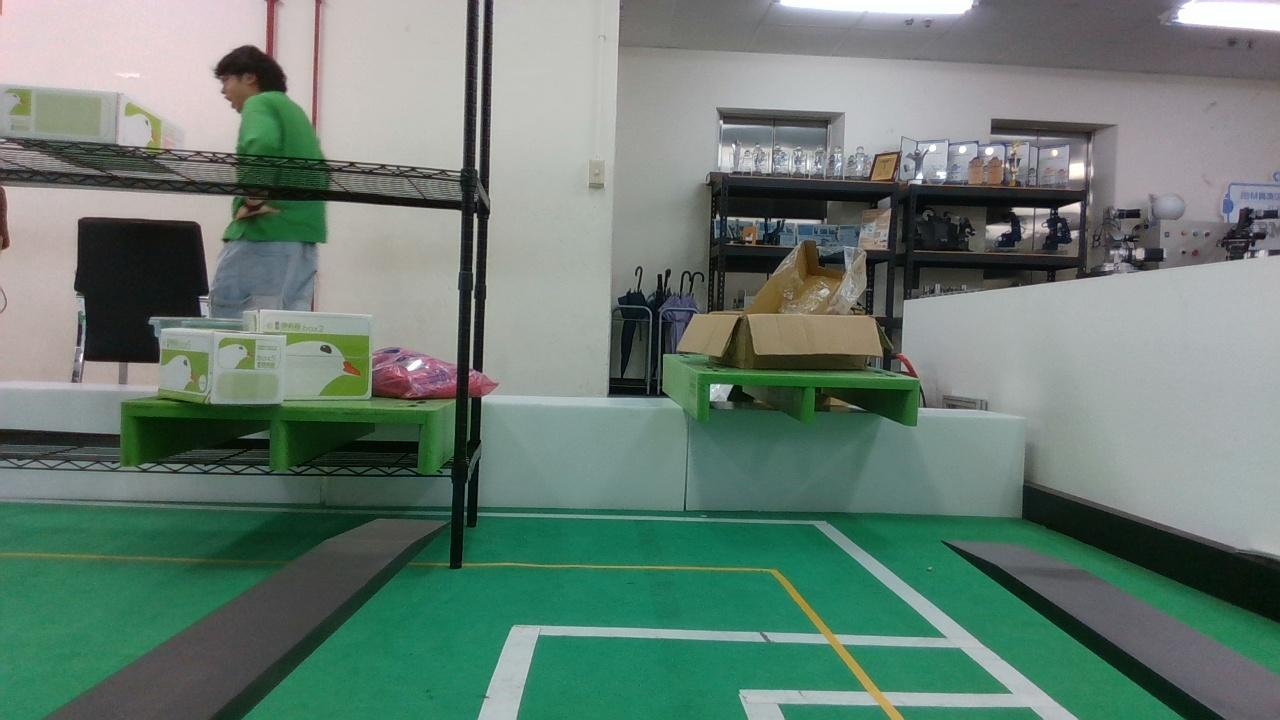Pallet: (121, 399, 441, 474), (697, 373, 921, 426)
